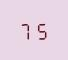five: (34, 19, 48, 39)
seven: (19, 20, 33, 40)
